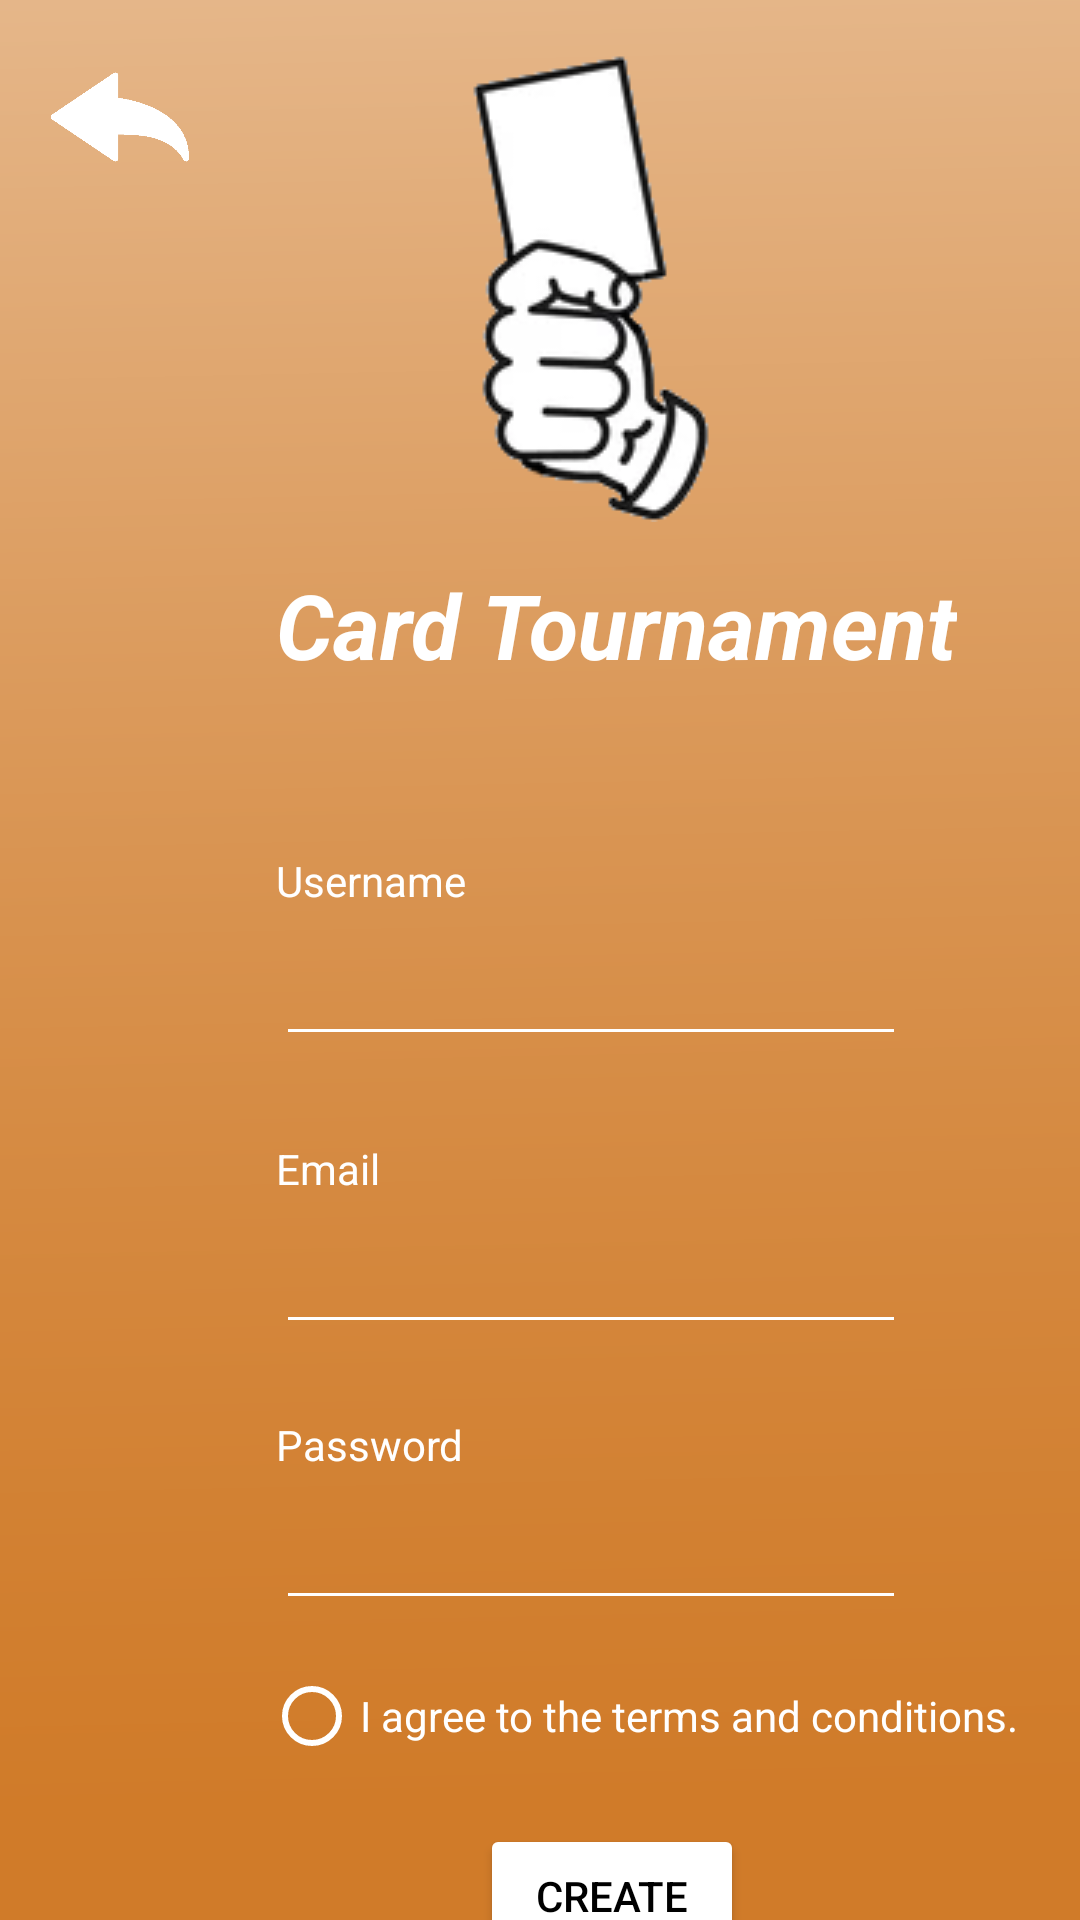

Named icons in this screenshot (1080px×1920px) and their centers, (x,y):
backarrow: (120,117)
